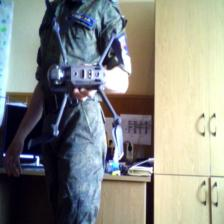drone: (44, 0, 126, 143)
